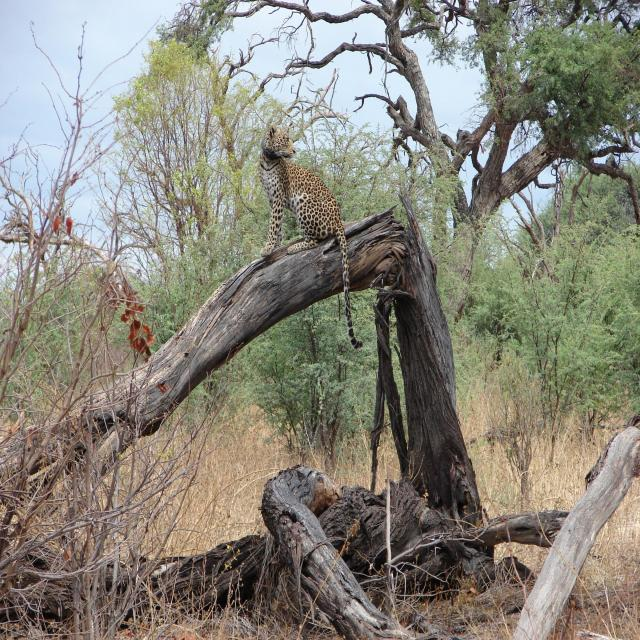Leopard: (250, 132, 350, 376)
